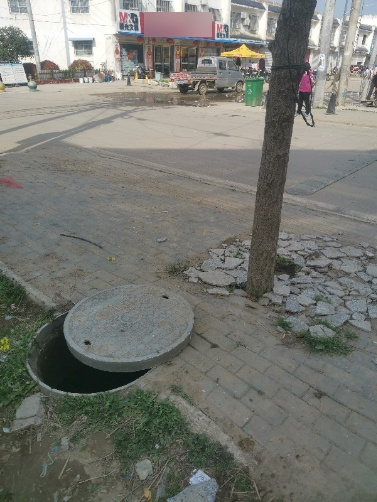uncovered: (24, 284, 194, 397)
